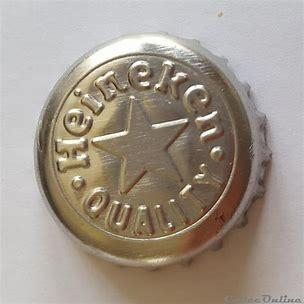metal: (36, 33, 272, 268)
